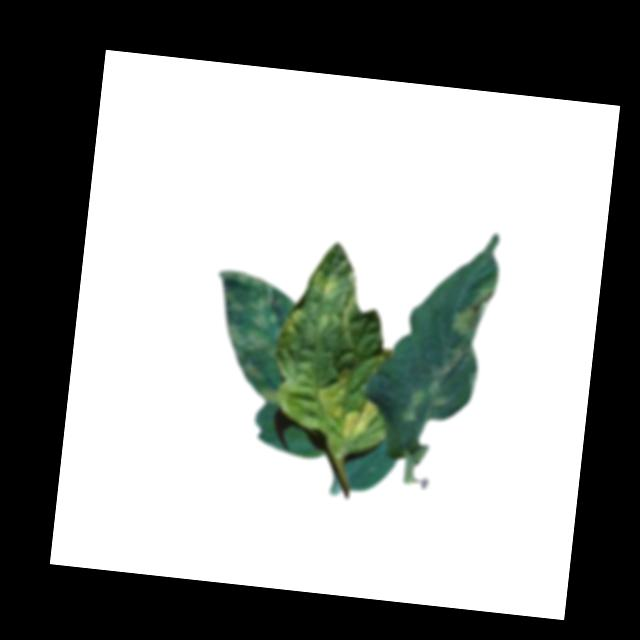Leaf_Mold: (208, 267, 293, 402), (450, 278, 498, 343), (342, 394, 389, 447), (314, 361, 349, 420), (400, 385, 429, 426), (311, 267, 338, 297)
